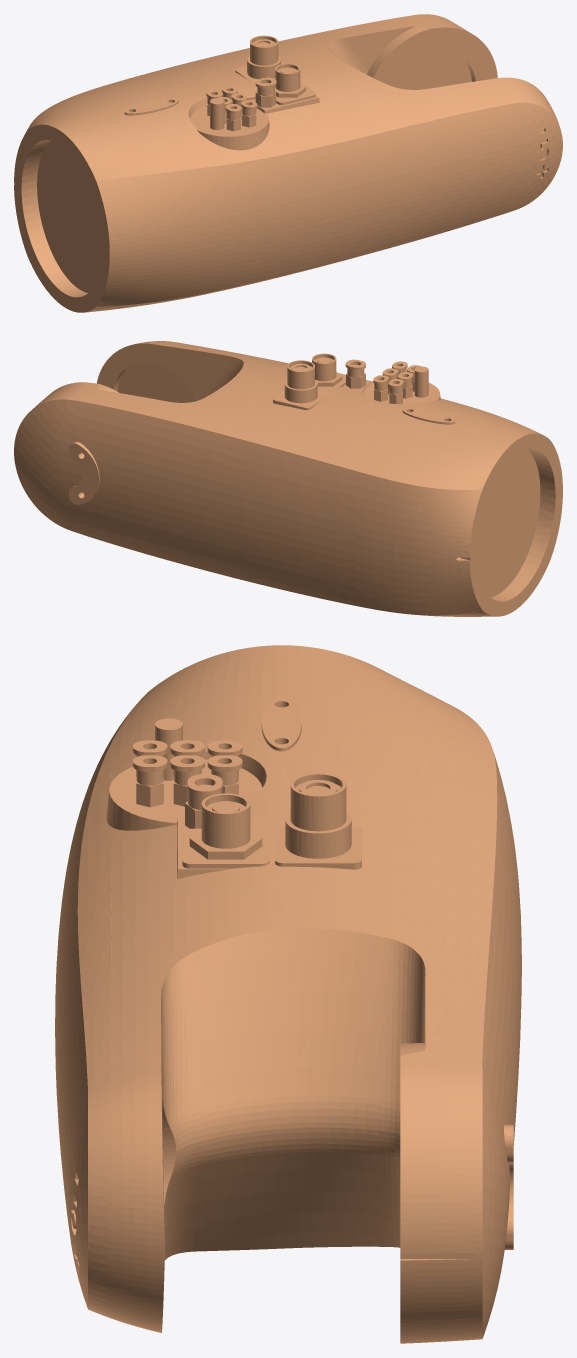
3 views of the same model, one above another, from view 1: azimuth 30°, elevation 25°; view 2: azimuth 150°, elevation 25°; view 3: azimuth 270°, elevation 25° (orthographic). The views are drawn at different scales.
Visible parts, largest first — view 1: link_4; view 2: link_4; view 3: link_4.
Part boxes in pixels (x1,y1,x2,y2): link_4: (14, 14, 562, 312); link_4: (14, 341, 562, 616); link_4: (55, 645, 521, 1343).
Size of the model in its own units: 0.3008 by 0.1339 by 0.128.
